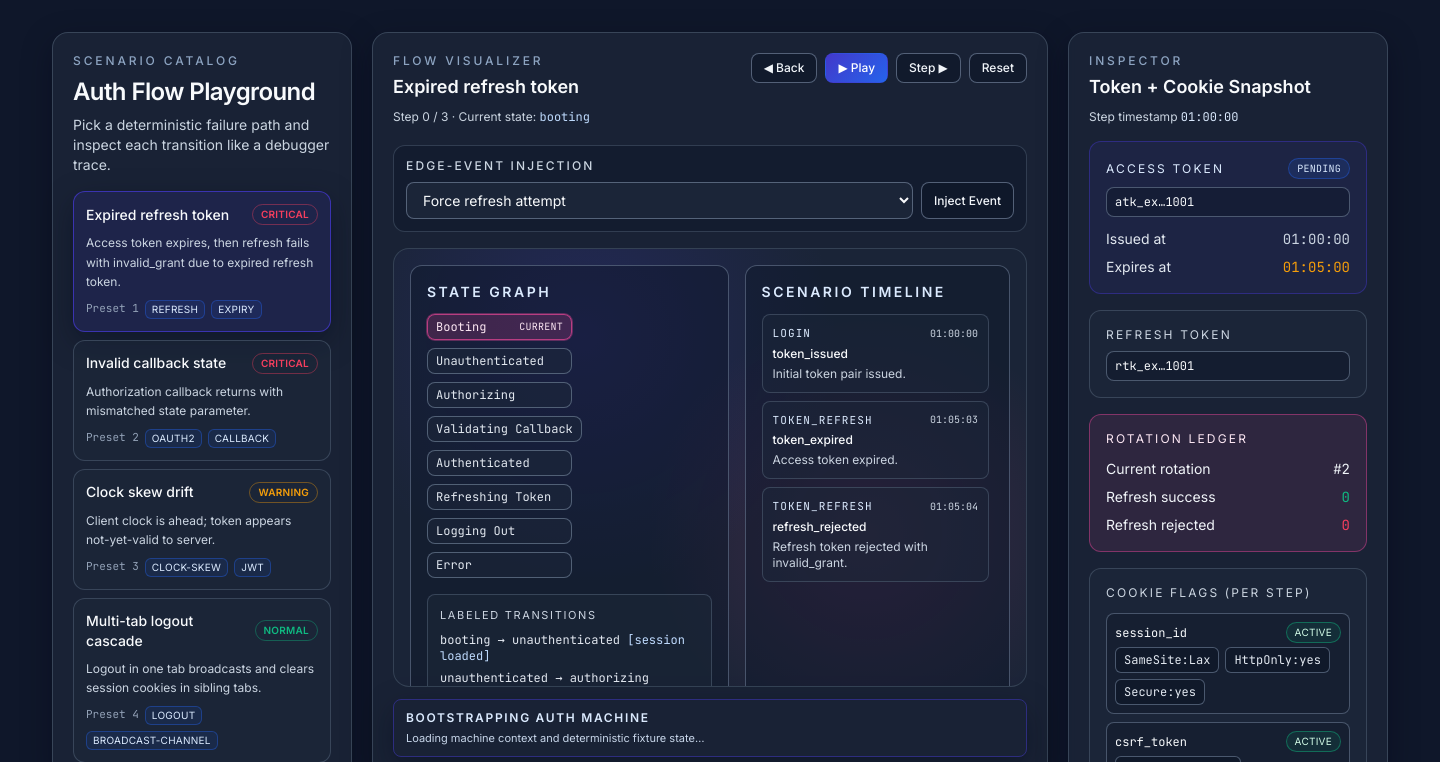
it: flow visualizer controls › steps timeline forward and updates progress
expect the text "Step 0 / 3 · Current state: booting" is shown: met, box [393,109,590,125]
Step 1. Click the button "Step ▶" → (928,68), box [896,53,961,83]
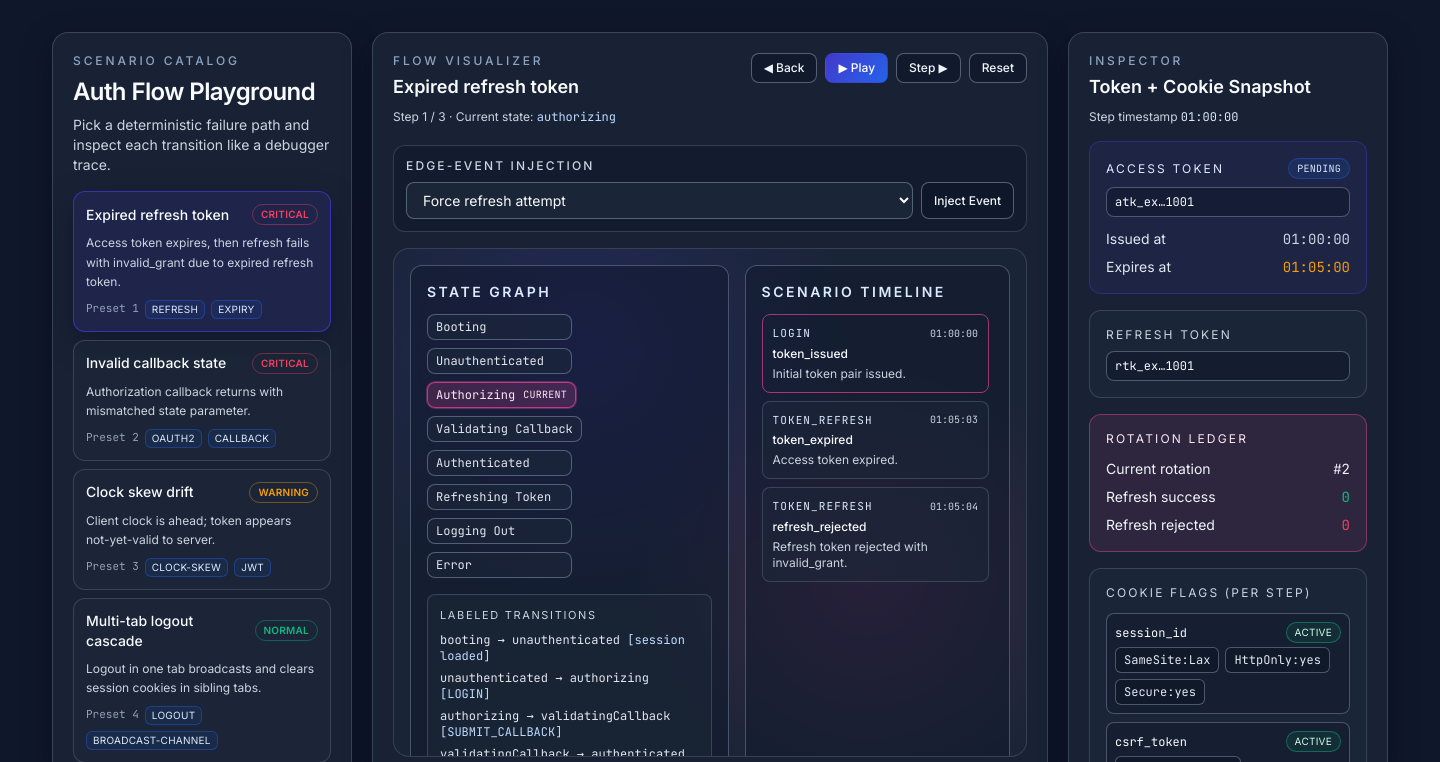
expect the text "Step 1 / 3 · Current state: authorizing" is shown: met, box [393,109,616,125]
